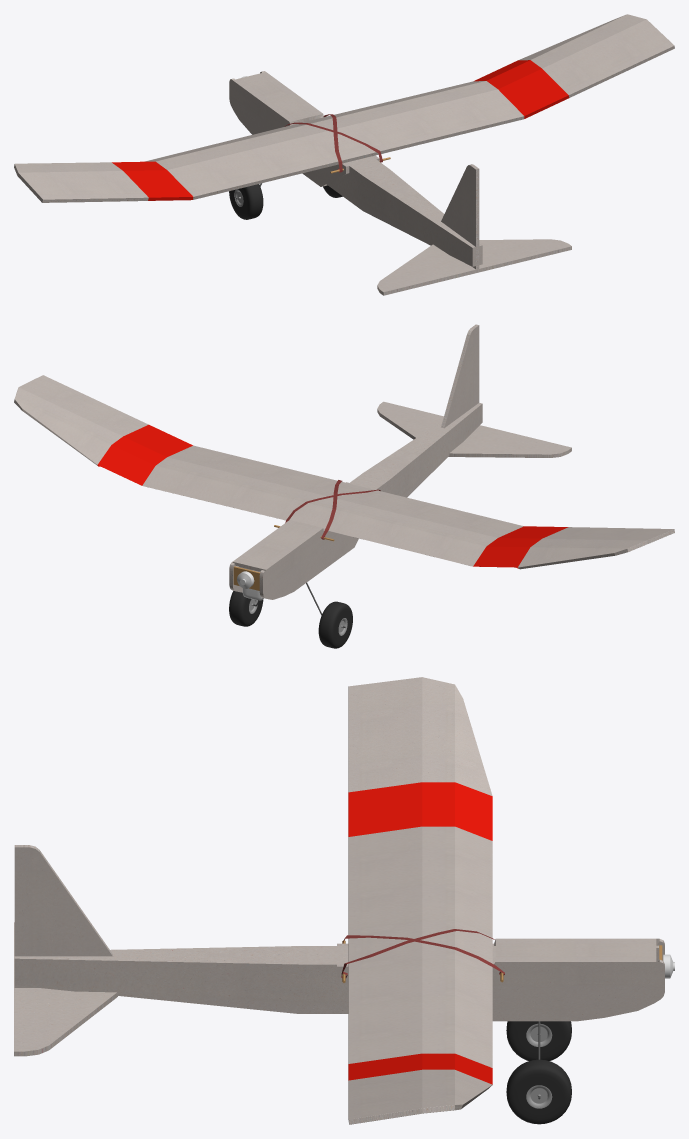
File: TinyTrainer.glb
The picture shows the model from 3 angles, top to bottom: view 1: azimuth 30°, elevation 25°; view 2: azimuth 150°, elevation 25°; view 3: azimuth 270°, elevation 25°; orthographic projection. The views are drawn at different scales.
Parts seen in each view (by area): view 1: Wing, InnerBody, HorizontalStab, NosePod, VerticalStab, Wheels, WingRubberBand; view 2: Wing, NosePod, InnerBody, HorizontalStab, VerticalStab, Wheels, WingRubberBand; view 3: Wing, InnerBody, NosePod, VerticalStab, Wheels, HorizontalStab, WingRubberBand, WheelHubs.
Part boxes in pixels (<box>): Wing: <box>14,14,674,202</box>; InnerBody: <box>326,156,482,266</box>; HorizontalStab: <box>377,239,571,295</box>; NosePod: <box>229,71,379,186</box>; VerticalStab: <box>441,164,479,269</box>; Wheels: <box>229,184,342,219</box>; WingRubberBand: <box>284,114,382,172</box>; Wing: <box>14,375,674,569</box>; NosePod: <box>229,482,378,599</box>; InnerBody: <box>349,402,482,497</box>; HorizontalStab: <box>377,401,571,457</box>; VerticalStab: <box>441,324,479,428</box>; Wheels: <box>229,591,352,648</box>; WingRubberBand: <box>285,480,380,539</box>; Wing: <box>348,677,492,1124</box>; InnerBody: <box>14,946,495,1013</box>; NosePod: <box>337,938,664,1021</box>; VerticalStab: <box>14,845,112,987</box>; Wheels: <box>506,1021,571,1124</box>; HorizontalStab: <box>14,922,117,1056</box>; WingRubberBand: <box>341,929,504,977</box>; WheelHubs: <box>526,1023,552,1108</box>.
Bounding box in the file's own units: 0.94 × 0.2469 × 0.6047.
9 materials, 1 textured.
